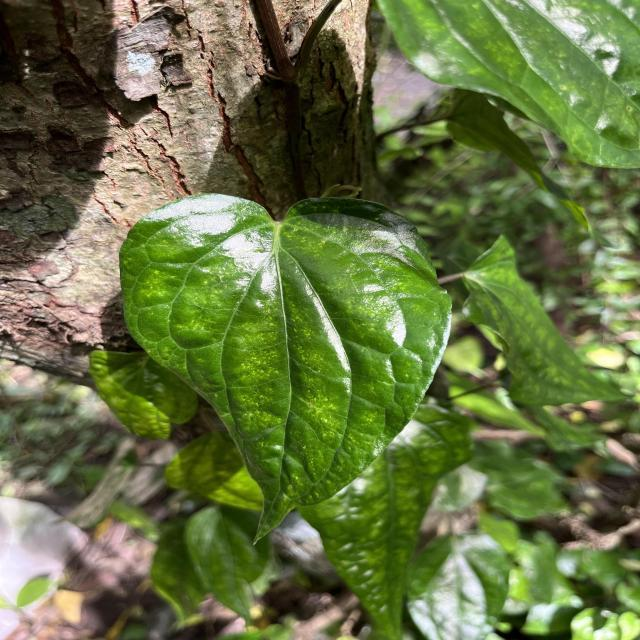Piper betle: (116, 188, 458, 554)
